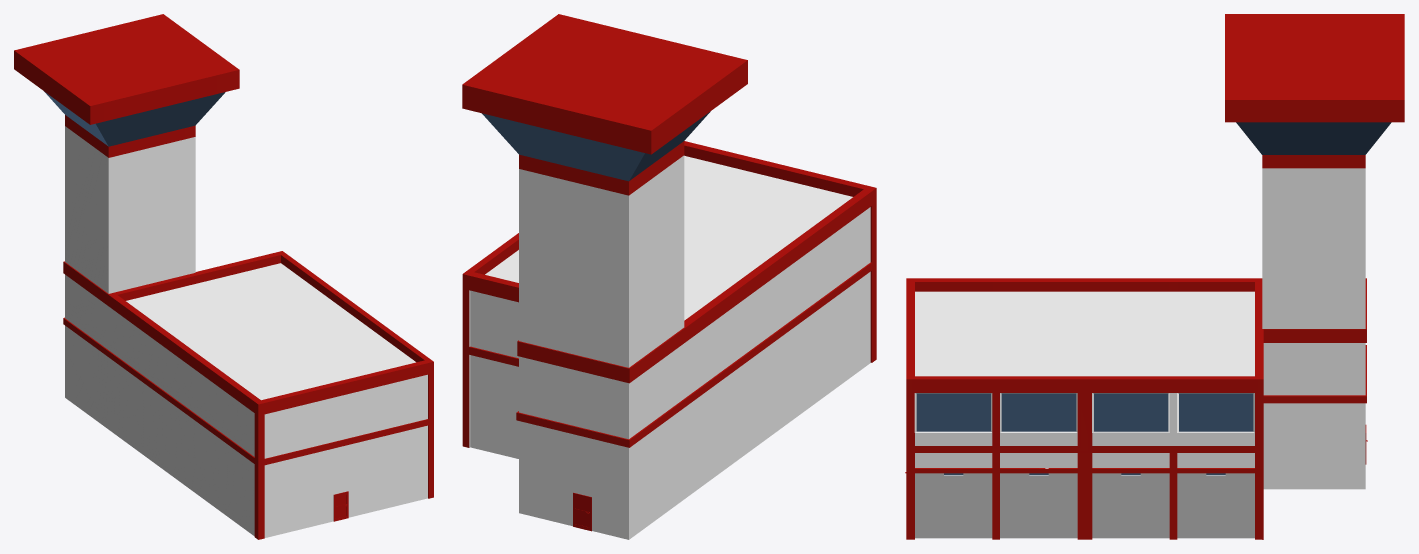
Rendered from Firestaton.fbx.
3 renders of one model, left to right at view 1: azimuth 30°, elevation 25°; view 2: azimuth 150°, elevation 25°; view 3: azimuth 270°, elevation 25°, orthographic. The views are drawn at different scales.
Parts seen in each view (by area): view 1: Building_FireStation; view 2: Building_FireStation; view 3: Building_FireStation.
Boxes of the visible parts, x1=… form: Building_FireStation: x1=14, y1=14, x2=433, y2=539; Building_FireStation: x1=462, y1=14, x2=876, y2=539; Building_FireStation: x1=905, y1=14, x2=1404, y2=539.
Bounding box in the file's own units: 20.01 × 31.47 × 35.11.
Materials: 1 (1 with a texture image).
